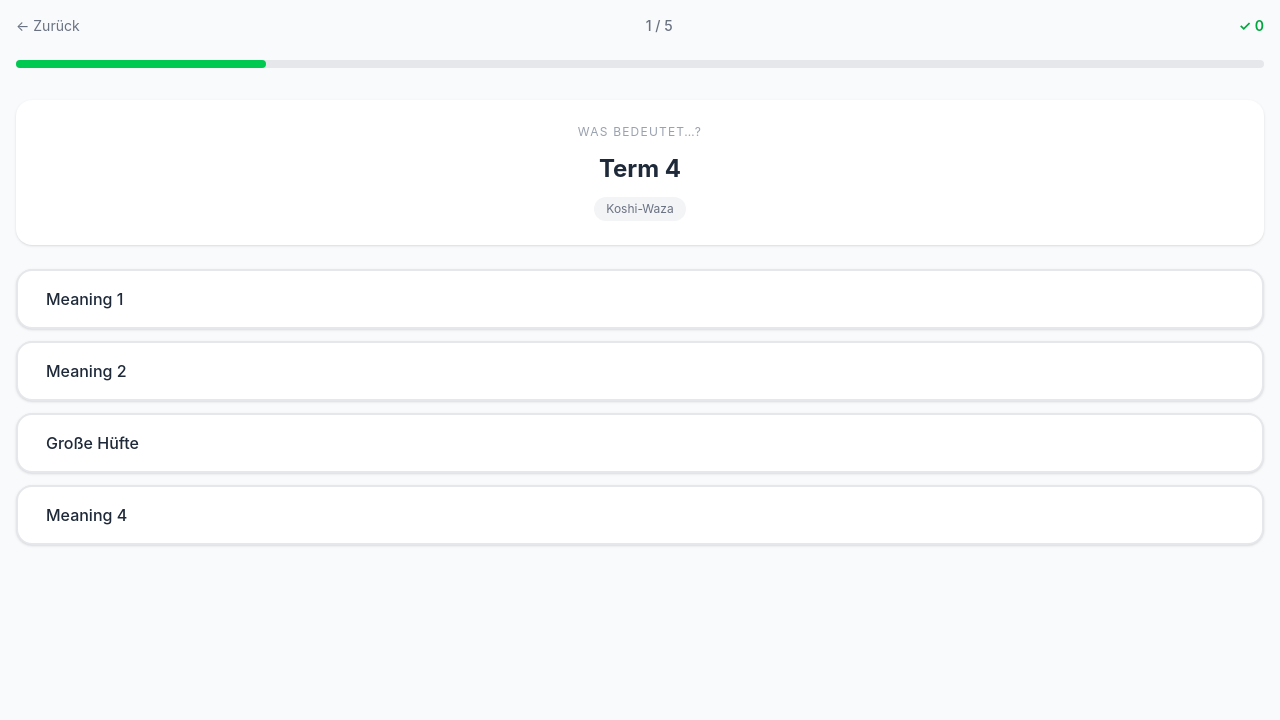
Quiz – navigation › advances to the next question when "Weiter" is clicked
Click the button with test id "choice-correct" at x=87, y=515, box [16,485,1264,545]
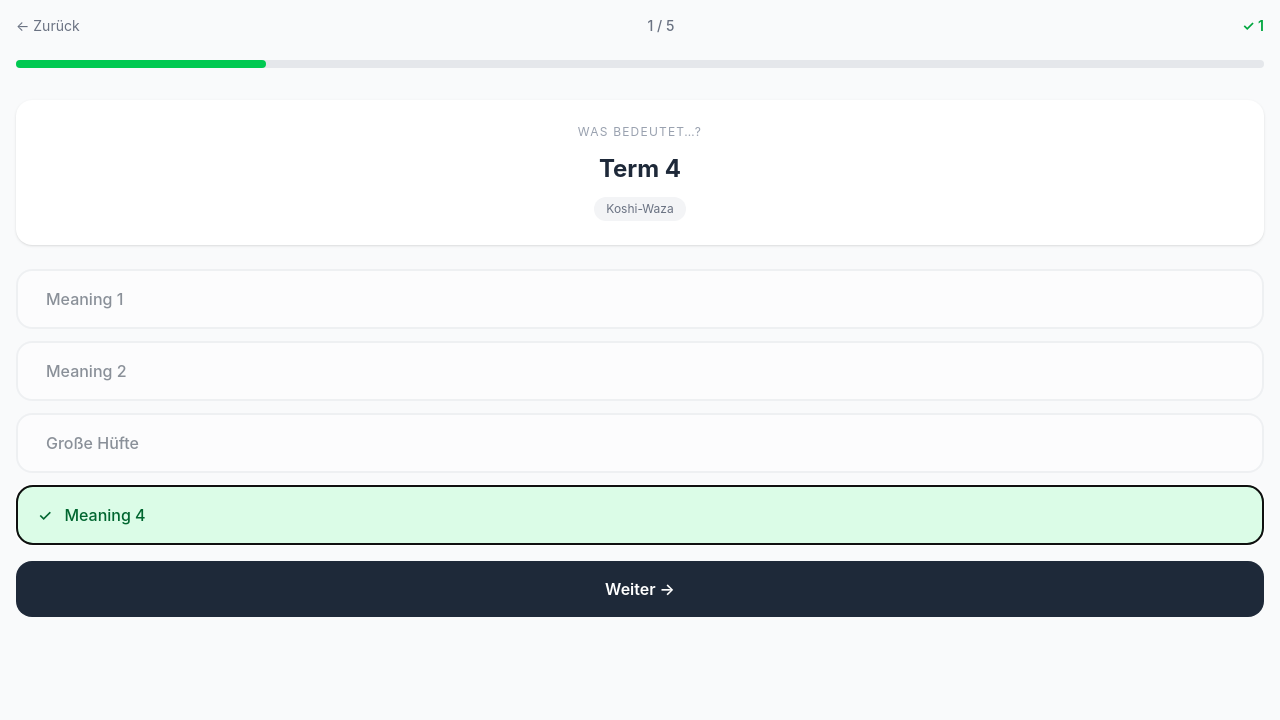
Click the button with test id "next-btn" at x=640, y=589, box [16,561,1264,617]
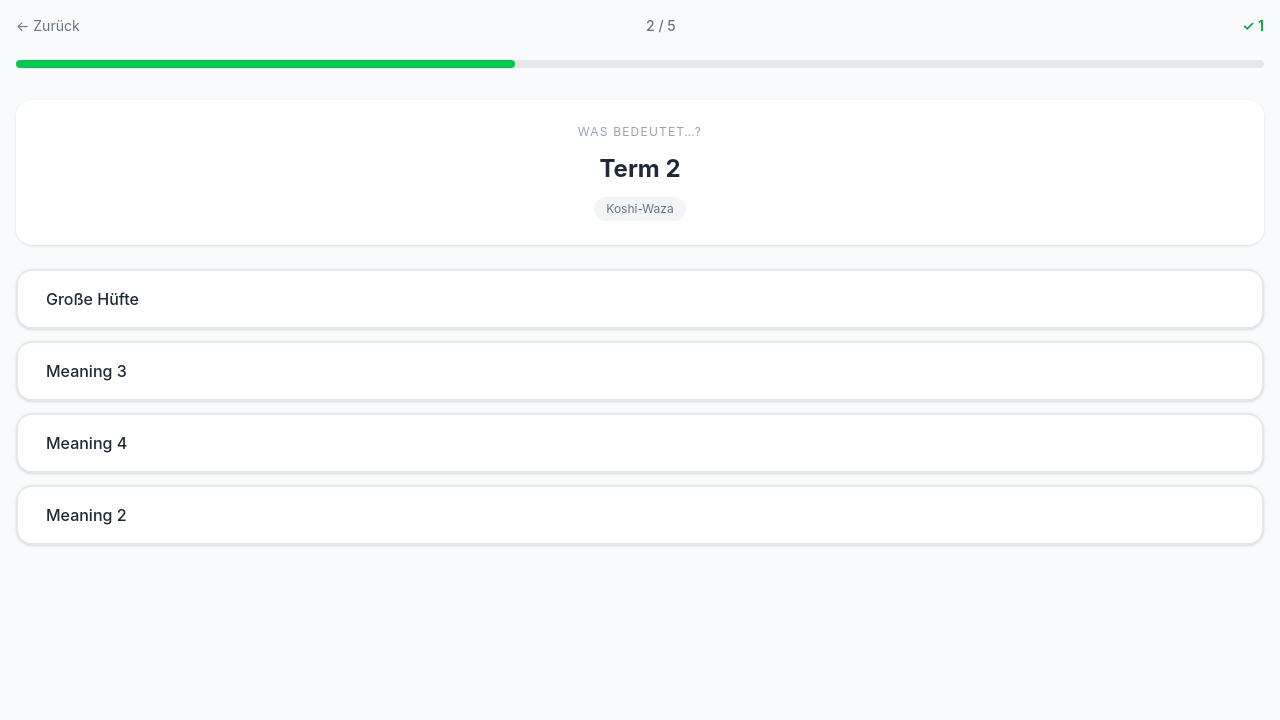
expect the text with test id "progress" reads "2 / 5": met, box [646,16,676,36]
